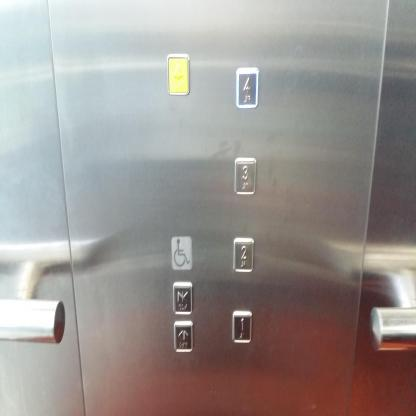1: (232, 310, 252, 345)
2: (232, 236, 254, 274)
3: (234, 157, 257, 196)
4: (236, 66, 258, 108)
CH: (171, 235, 192, 270)
alarm: (166, 53, 190, 96)
close: (172, 281, 192, 315)
open: (173, 320, 193, 353)
